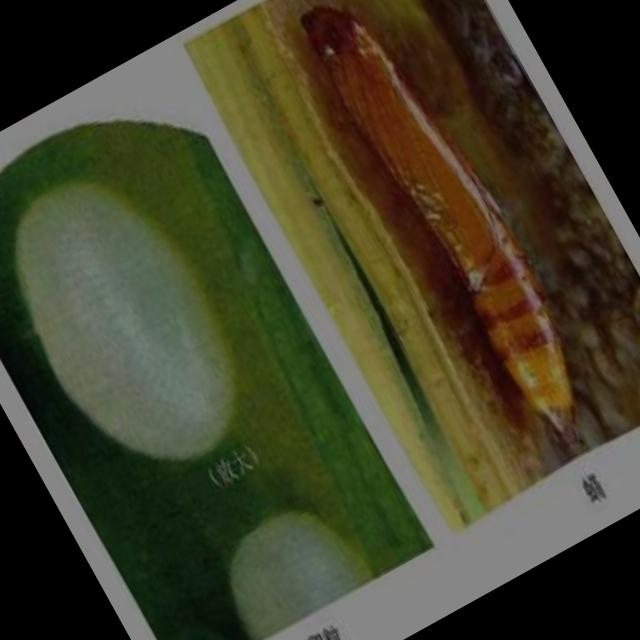whorl-maggot: (288, 0, 629, 471)
